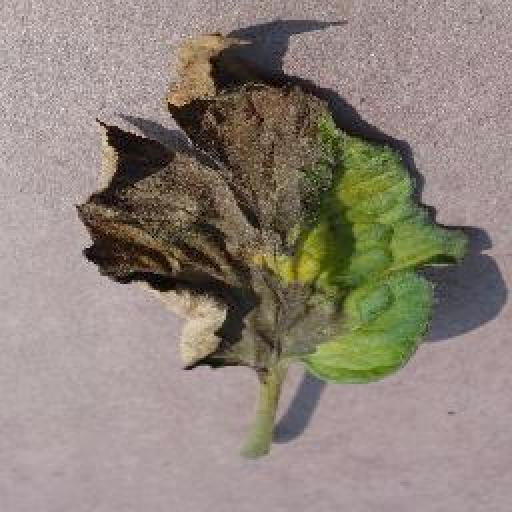disease_tomato: (75, 28, 473, 392)
